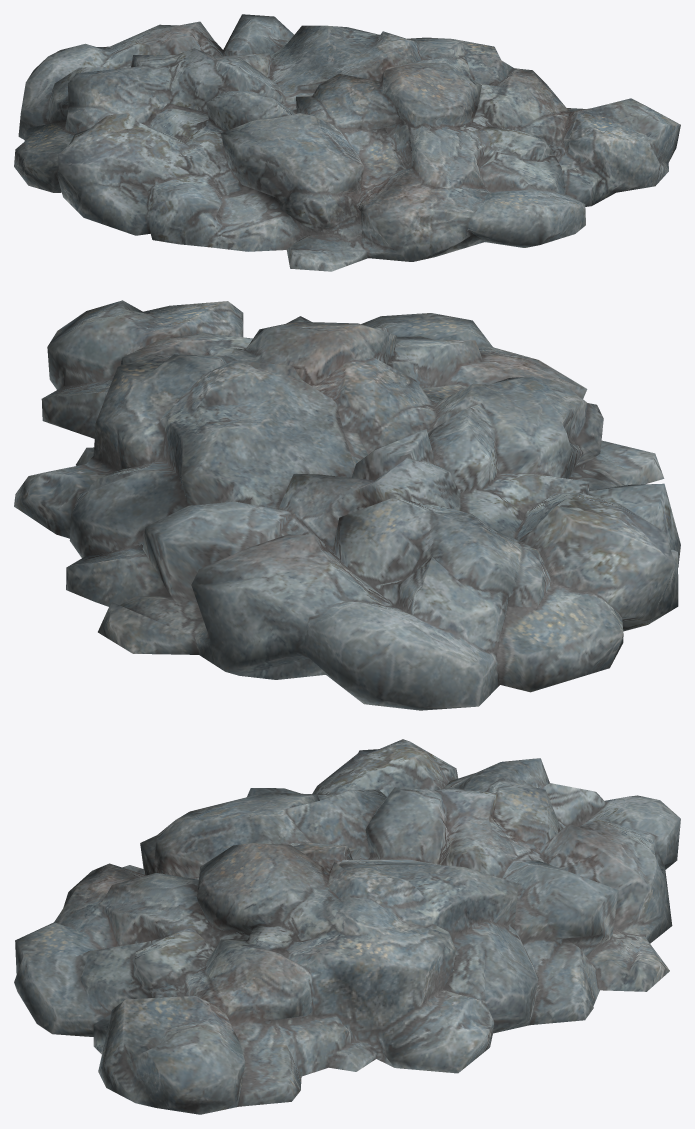
File: PBR-Rock-Group-1-2-small.fbx
The picture shows the model from 3 angles, top to bottom: view 1: azimuth 30°, elevation 25°; view 2: azimuth 150°, elevation 25°; view 3: azimuth 270°, elevation 25°; orthographic projection. The views are drawn at different scales.
Parts seen in each view (by area): view 1: Rocks_Group_01_02_LOD0; view 2: Rocks_Group_01_02_LOD0; view 3: Rocks_Group_01_02_LOD0.
Boxes of the visible parts, left/top/right/bottom form: Rocks_Group_01_02_LOD0: left=14, top=14, right=680, bottom=271; Rocks_Group_01_02_LOD0: left=14, top=300, right=680, bottom=710; Rocks_Group_01_02_LOD0: left=14, top=739, right=680, bottom=1114.
Bounding box in the file's own units: 317 × 62.97 × 283.
Materials: 1 (1 with a texture image).
